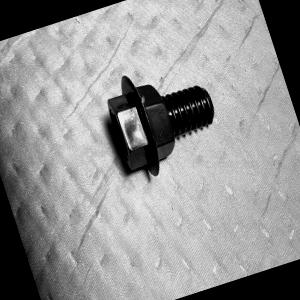parafuso: (98, 52, 230, 186)
